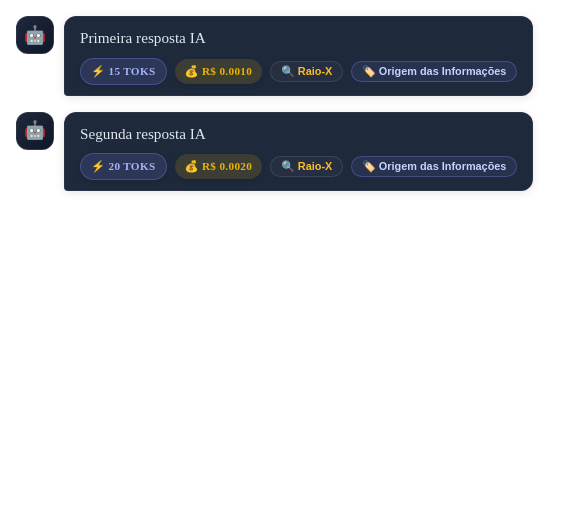
Test case: MessageList Component › deve fechar outros Raio-X quando um Raio-X for aberto (comportamento de acordeão)
Expected: the button with test id "raio-x-toggle-btn" next to "0.0020" reads "🔍 Raio-X", [270,156,343,177]
// Abre o primeiro Raio-X
Click the button with test id "raio-x-toggle-btn" next to "0.0010". click: point(307, 71)
box: [270,61,343,82]
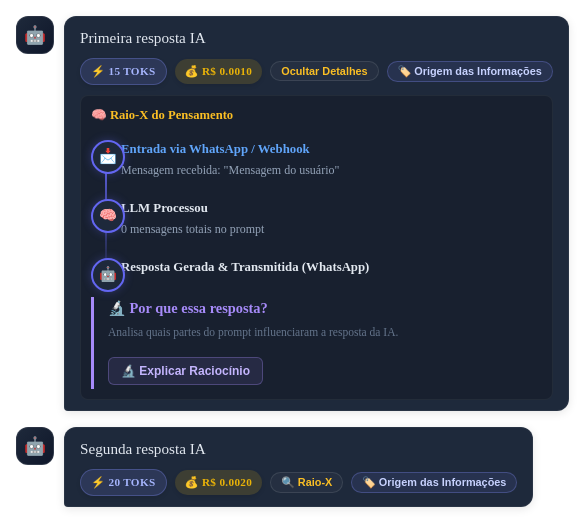
Now the button with test id "raio-x-toggle-btn" reads "Ocultar Detalhes", box [270,61,379,81]
Click the button with test id "raio-x-toggle-btn" showing "🔍 Raio-X". click: point(307, 482)
box: [270,472,343,493]
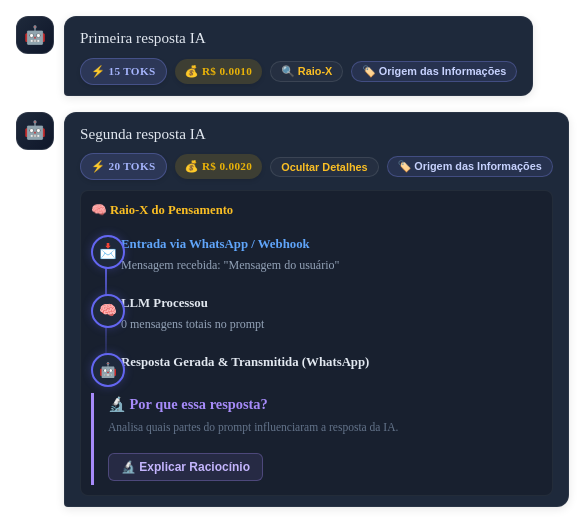
Now the button with test id "raio-x-toggle-btn" reads "🔍 Raio-X", box [270,61,343,82]
Now the button with test id "raio-x-toggle-btn" reads "Ocultar Detalhes"
Click the button with test id "raio-x-toggle-btn" showing "Ocultar Detalhes". click: point(324, 167)
box: [270,157,379,177]
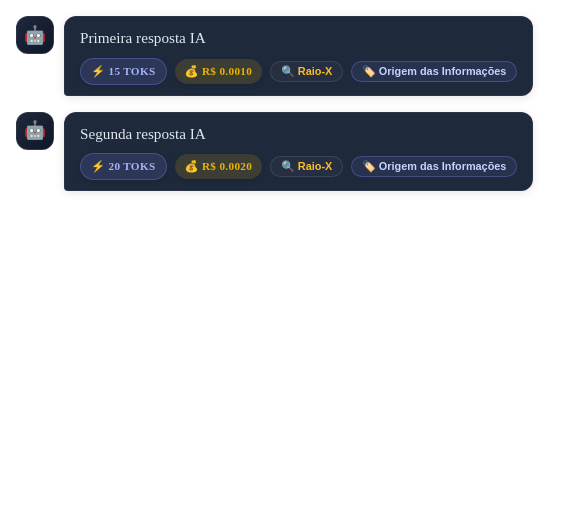
Now the button with test id "raio-x-toggle-btn" next to "0.0010" reads "🔍 Raio-X", box [270,61,343,82]
Now the button with test id "raio-x-toggle-btn" next to "0.0020" reads "🔍 Raio-X", box [270,156,343,177]
